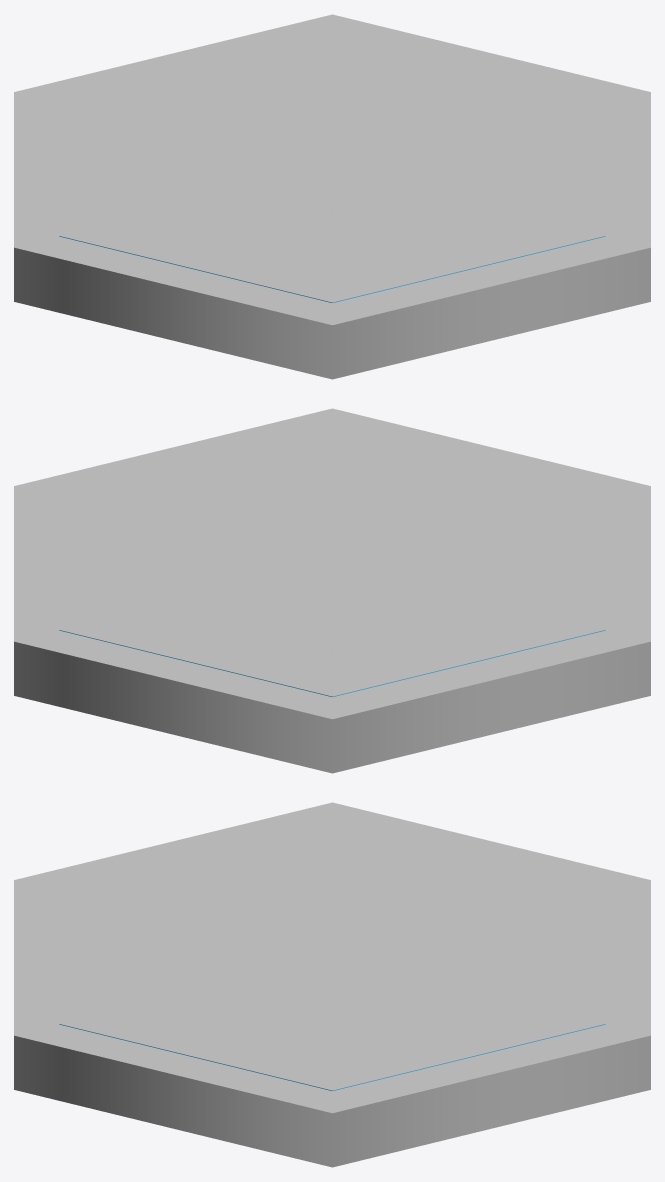
The model's file is Puzzle_7.FBX.
3 renders of one model, top to bottom at view 1: azimuth 30°, elevation 25°; view 2: azimuth 150°, elevation 25°; view 3: azimuth 270°, elevation 25°, orthographic.
Parts seen in each view (by area): view 1: Cylinder001, D_017, D_016, D_014, D_012, D_013, D_015; view 2: Cylinder001, D_017, D_016, D_014, D_012, D_013, D_015; view 3: Cylinder001, D_017, D_016, D_014, D_012, D_013, D_015.
Part boxes in pixels (x1,y1,x2,y2): Cylinder001: [14, 14, 650, 379]; D_017: [59, 36, 605, 146]; D_016: [59, 102, 421, 257]; D_014: [332, 169, 605, 282]; D_012: [242, 102, 605, 191]; D_013: [59, 213, 417, 302]; D_015: [514, 146, 605, 235]; Cylinder001: [14, 408, 650, 773]; D_017: [59, 496, 332, 696]; D_016: [332, 497, 605, 696]; D_014: [241, 430, 519, 562]; D_012: [59, 474, 332, 607]; D_013: [514, 475, 605, 629]; D_015: [149, 430, 332, 496]; Cylinder001: [14, 802, 650, 1167]; D_017: [332, 890, 605, 1090]; D_016: [150, 824, 605, 956]; D_014: [59, 913, 331, 1023]; D_012: [241, 935, 423, 1090]; D_013: [59, 824, 332, 932]; D_015: [59, 1001, 242, 1069].
Size of the model in its own units: 4 by 0.3294 by 3.46.
